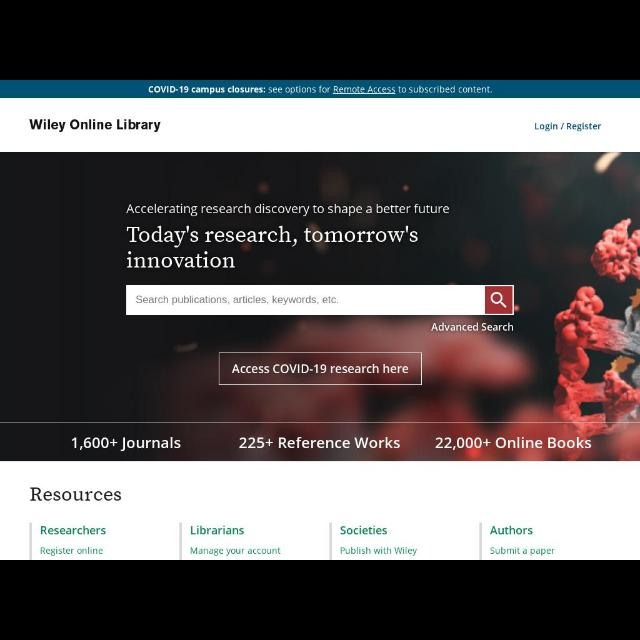button: (485, 287, 511, 313)
icon: (489, 292, 506, 308)
input: (126, 286, 514, 314)
text: (126, 226, 420, 270), (148, 84, 492, 94), (128, 203, 450, 213), (137, 294, 339, 308), (435, 436, 591, 452), (231, 362, 409, 376), (241, 436, 401, 449), (28, 118, 162, 132), (70, 436, 180, 452), (30, 487, 122, 501), (432, 321, 512, 333), (340, 546, 418, 556), (190, 547, 280, 555), (534, 122, 602, 132), (190, 526, 246, 538), (40, 526, 106, 536), (40, 546, 102, 556), (489, 547, 555, 555), (491, 526, 533, 536), (342, 526, 388, 534)
toolbar: (1, 98, 639, 150)
